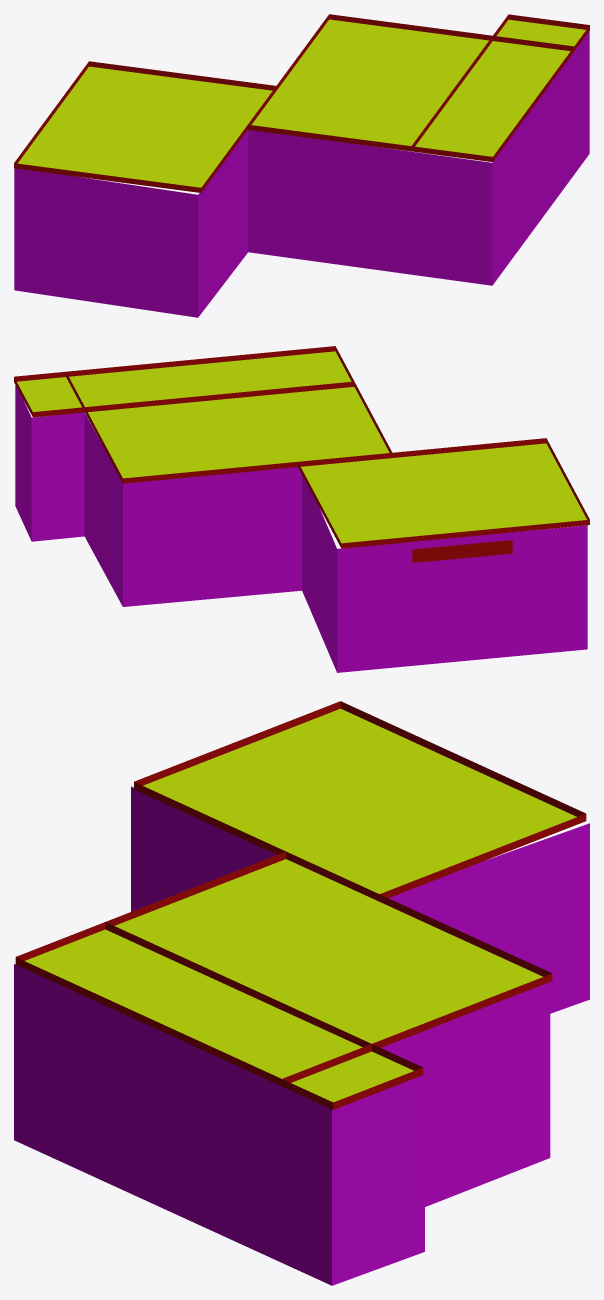
3 views of the same model, one above another, from view 1: azimuth 30°, elevation 25°; view 2: azimuth 150°, elevation 25°; view 3: azimuth 270°, elevation 25° (orthographic). The views are drawn at different scales.
Visible parts, largest first — view 1: sc_15; view 2: sc_15; view 3: sc_15.
Part boxes in pixels (left/top/right/bottom): sc_15: left=14, top=14, right=589, bottom=317; sc_15: left=14, top=346, right=589, bottom=672; sc_15: left=14, top=701, right=589, bottom=1285.
Bounding box in the file's own units: 39.98 × 8.54 × 24.24.
